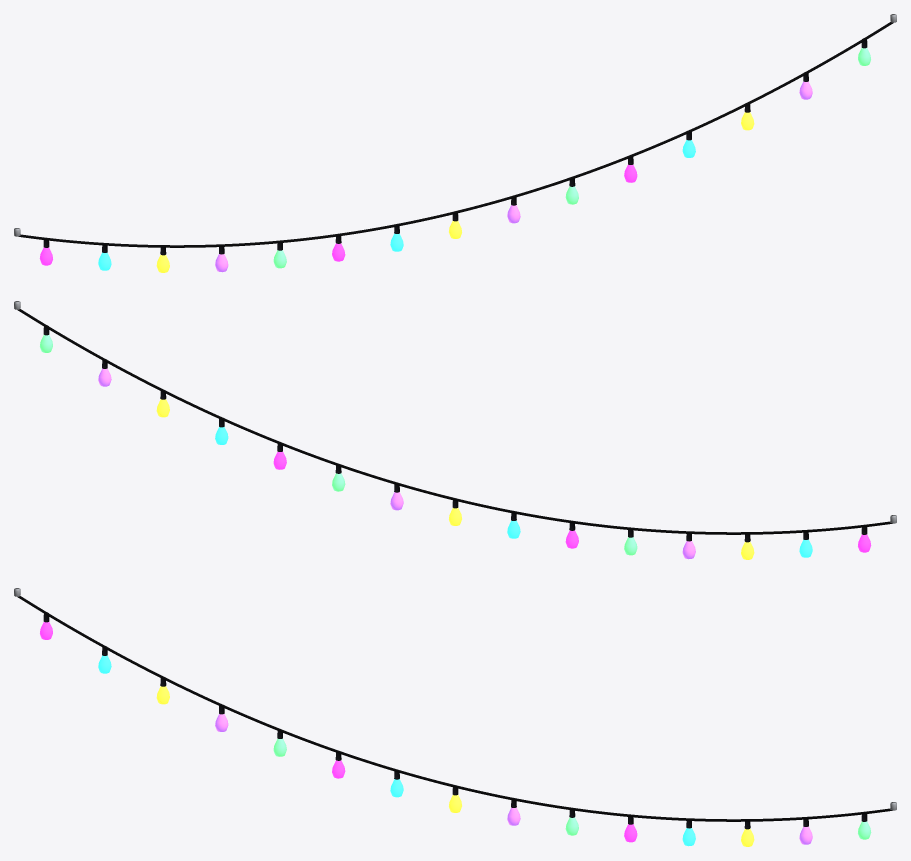
The model's file is klub_girlanda.glb.
3 renders of one model, top to bottom at view 1: azimuth 30°, elevation 25°; view 2: azimuth 150°, elevation 25°; view 3: azimuth 330°, elevation 25°, orthographic.
Visible parts, largest first — view 1: Przewod, Swiatlo3, Swiatlo2, Swiatlo1, Swiatlo0, Swiatlo4; view 2: Przewod, Swiatlo3, Swiatlo2, Swiatlo1, Swiatlo0, Swiatlo4; view 3: Przewod, Swiatlo1, Swiatlo2, Swiatlo3, Swiatlo4, Swiatlo0.
Boxes of the visible parts, <box> form: Przewod: <box>14,14,896,255</box>; Swiatlo3: <box>215,81,812,272</box>; Swiatlo2: <box>156,112,754,272</box>; Swiatlo1: <box>98,140,695,270</box>; Swiatlo0: <box>39,164,637,265</box>; Swiatlo4: <box>273,48,870,268</box>; Przewod: <box>14,301,896,542</box>; Swiatlo3: <box>98,368,695,559</box>; Swiatlo2: <box>156,399,754,559</box>; Swiatlo1: <box>215,427,812,557</box>; Swiatlo0: <box>273,451,871,552</box>; Swiatlo4: <box>40,335,637,555</box>; Przewod: <box>14,588,896,829</box>; Swiatlo1: <box>98,655,695,846</box>; Swiatlo2: <box>156,686,754,846</box>; Swiatlo3: <box>215,714,812,844</box>; Swiatlo4: <box>273,738,871,839</box>; Swiatlo0: <box>40,622,637,842</box>.
Size of the model in its own units: 6.04 by 0.762 by 0.0761.
